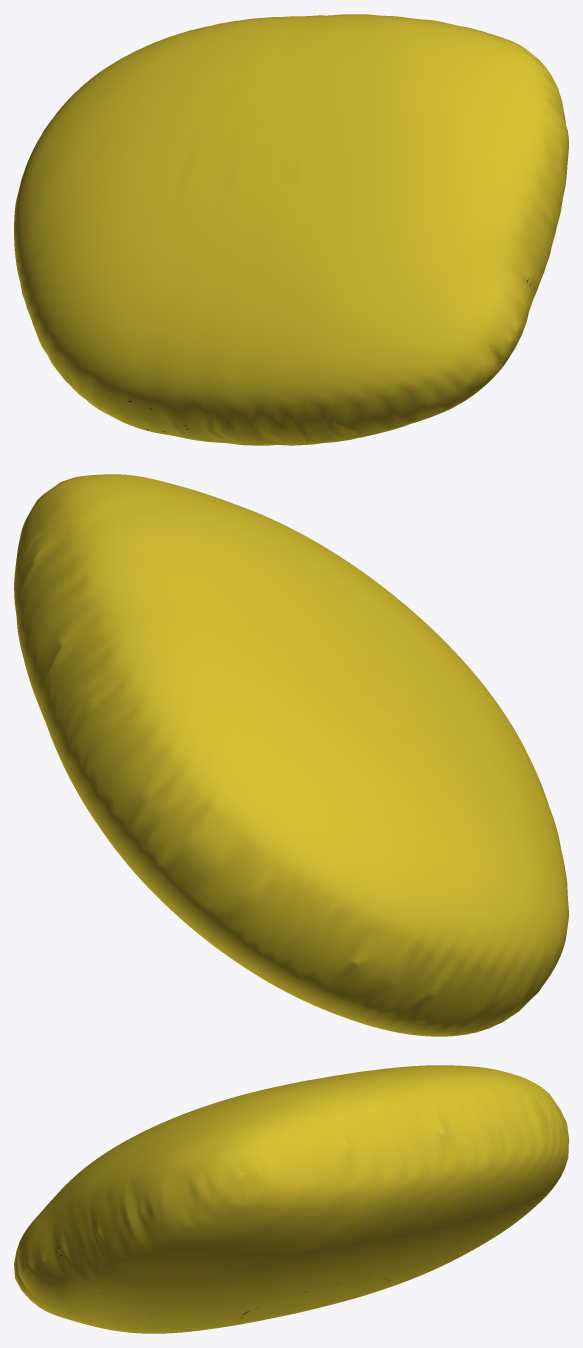
The model's file is Golden Nugget.fbx.
3 renders of one model, top to bottom at view 1: azimuth 30°, elevation 25°; view 2: azimuth 150°, elevation 25°; view 3: azimuth 270°, elevation 25°, orthographic. The views are drawn at different scales.
Parts seen in each view (by area): view 1: root; view 2: root; view 3: root.
Part boxes in pixels (x1,y1,x2,y2): root: [14, 14, 568, 445]; root: [14, 474, 568, 1036]; root: [14, 1065, 568, 1333].
Size of the model in its own units: 0.0771 by 0.054 by 0.085.
1 material, 1 textured.
